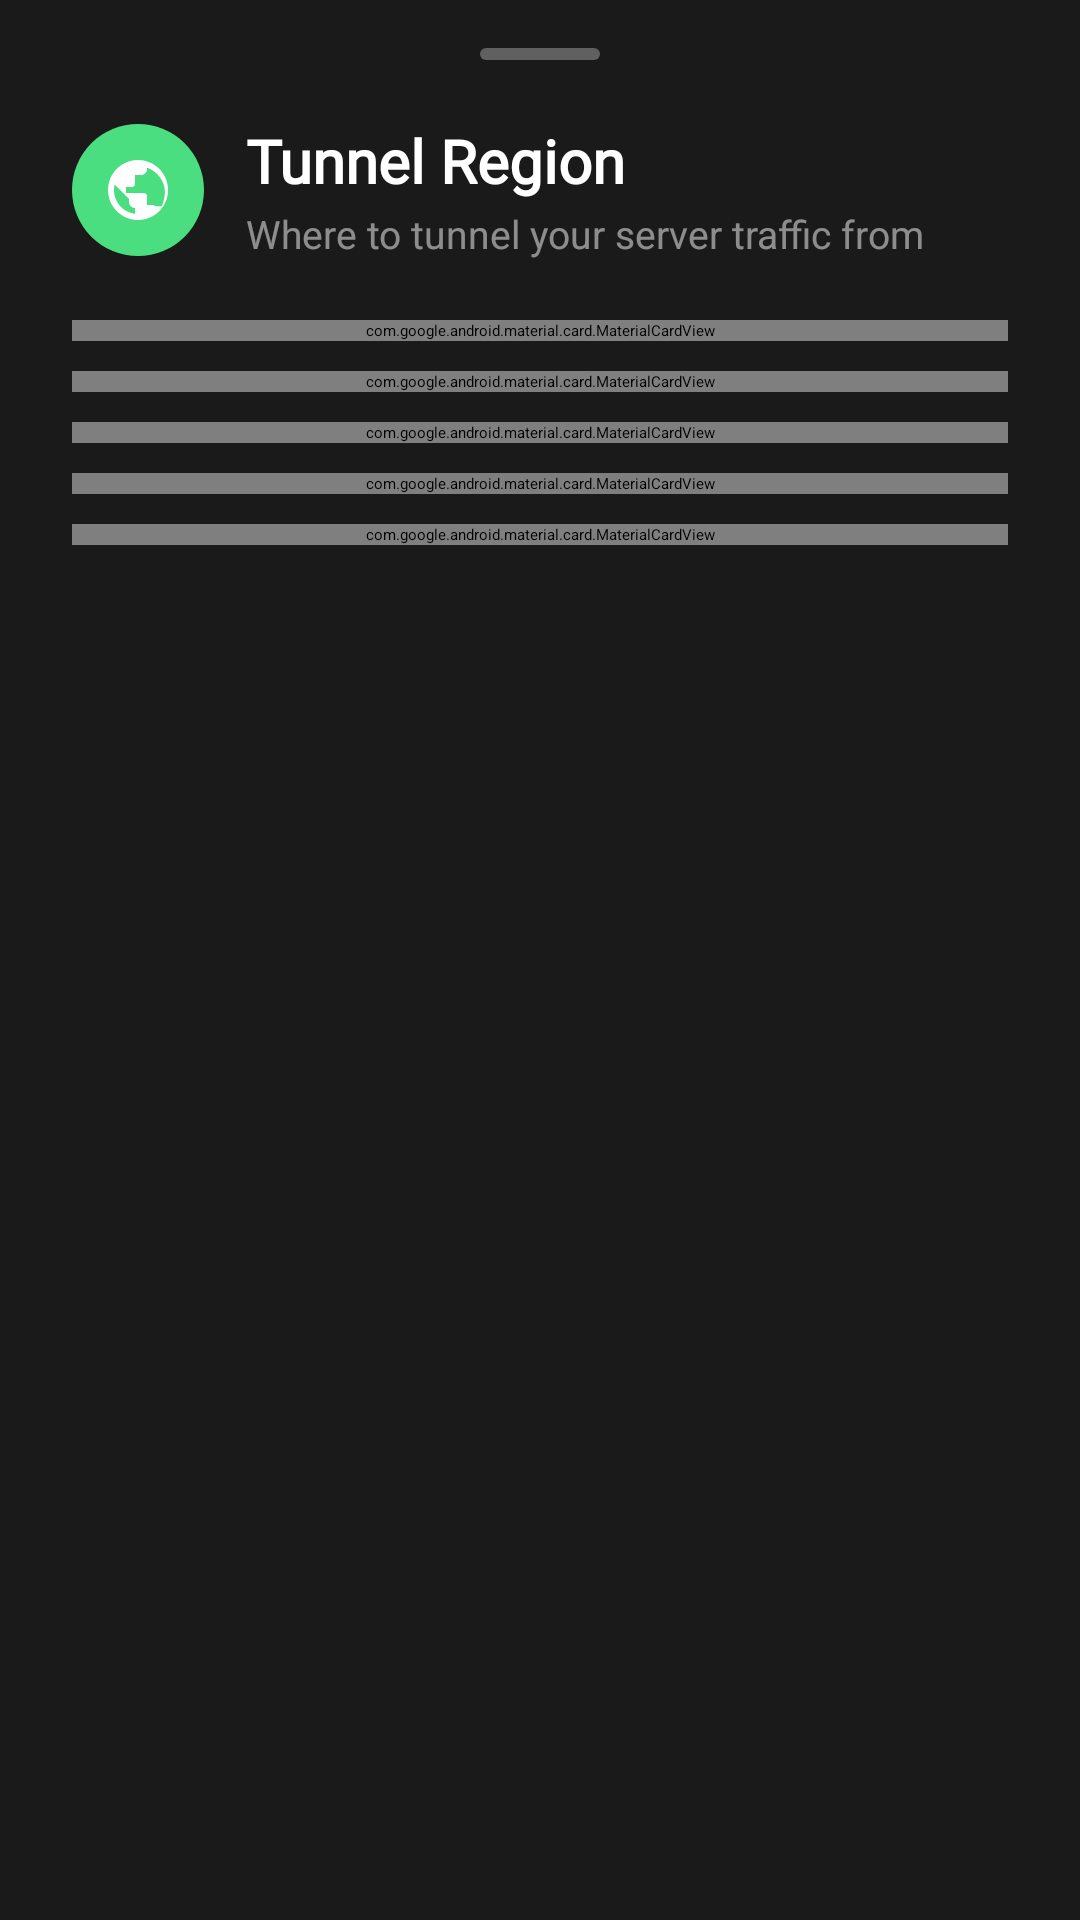

Icons on this 1080px×1920px Android screen, each with the point to tap as point (x, y):
globe: point (138, 190)
